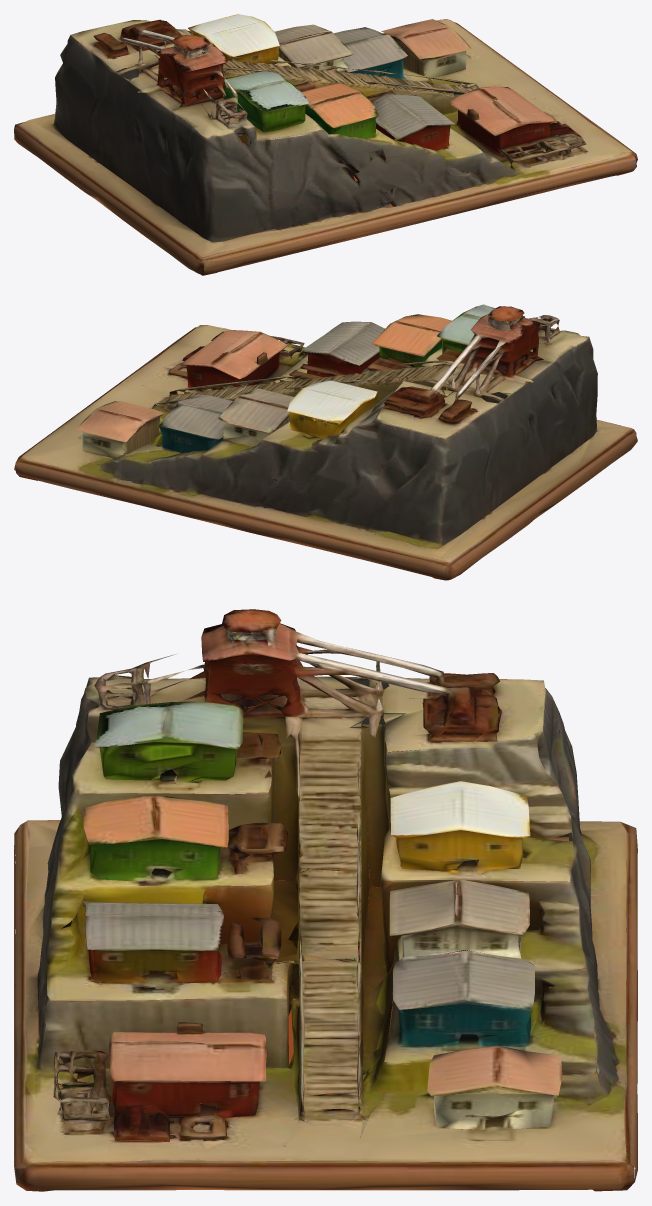
File: maqueta.glb
3 views of the same model, one above another, from view 1: azimuth 30°, elevation 25°; view 2: azimuth 150°, elevation 25°; view 3: azimuth 270°, elevation 25° (orthographic). The views are drawn at different scales.
Visible parts, largest first — view 1: geometry_0; view 2: geometry_0; view 3: geometry_0.
Part boxes in pixels (x1=…): geometry_0: x1=14, y1=14, x2=637, y2=275; geometry_0: x1=14, y1=304, x2=637, y2=580; geometry_0: x1=14, y1=609, x2=637, y2=1191.
Bounding box in the file's own units: 1.6 × 0.6 × 1.2.
1 material, 1 textured.
